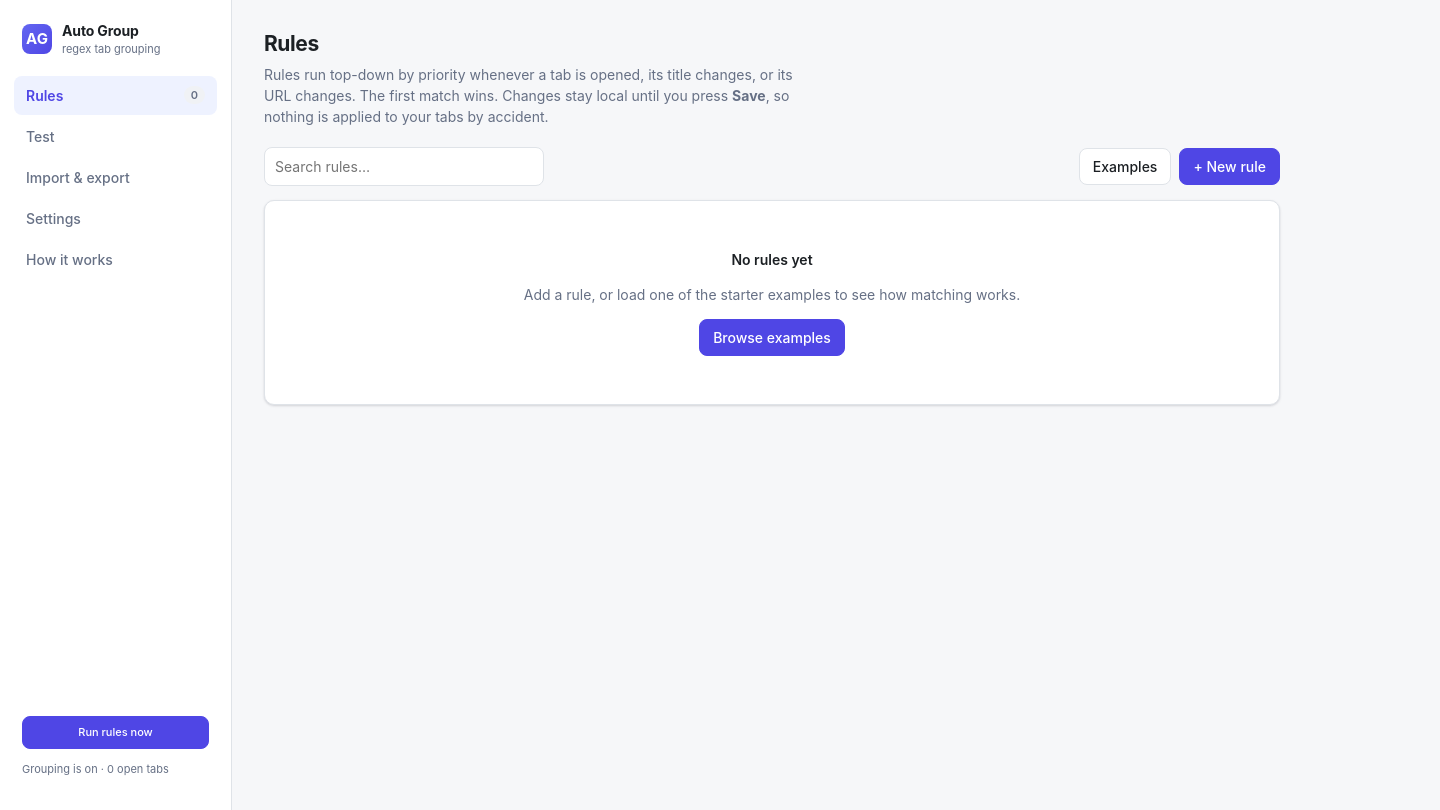
it: options App — save flow › shows Unsaved changes then Saved after pressing Save
Click the button "Browse examples" at (772, 337), box [699,318,845,356]
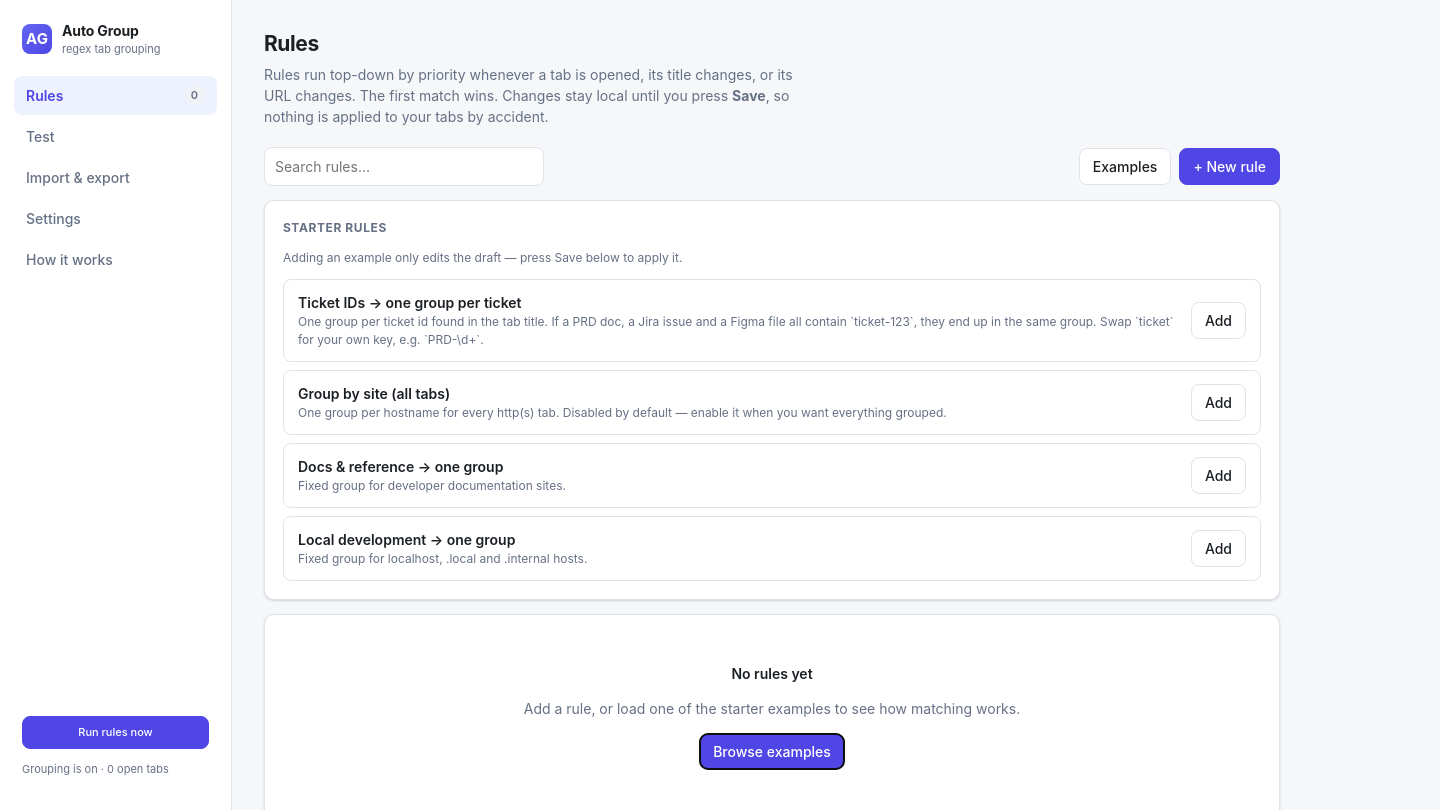
Click the button "Add" in the row of "Ticket IDs → one group per ticket" at (1218, 320), box [1191,302,1246,338]
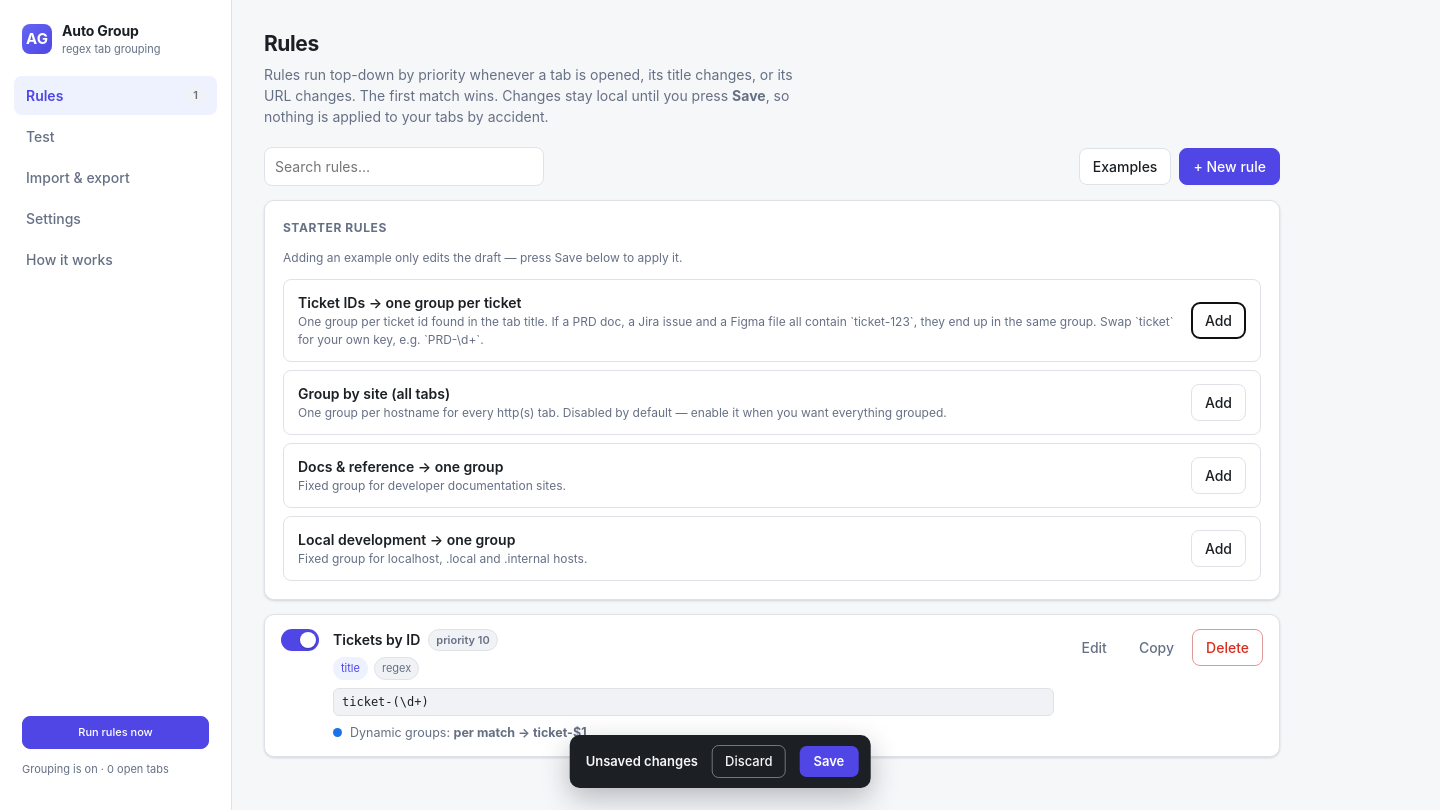
Result: the text "Unsaved changes" is shown at [586,752,698,771]
Click the button "Save" at (829, 761), box [800,746,858,777]
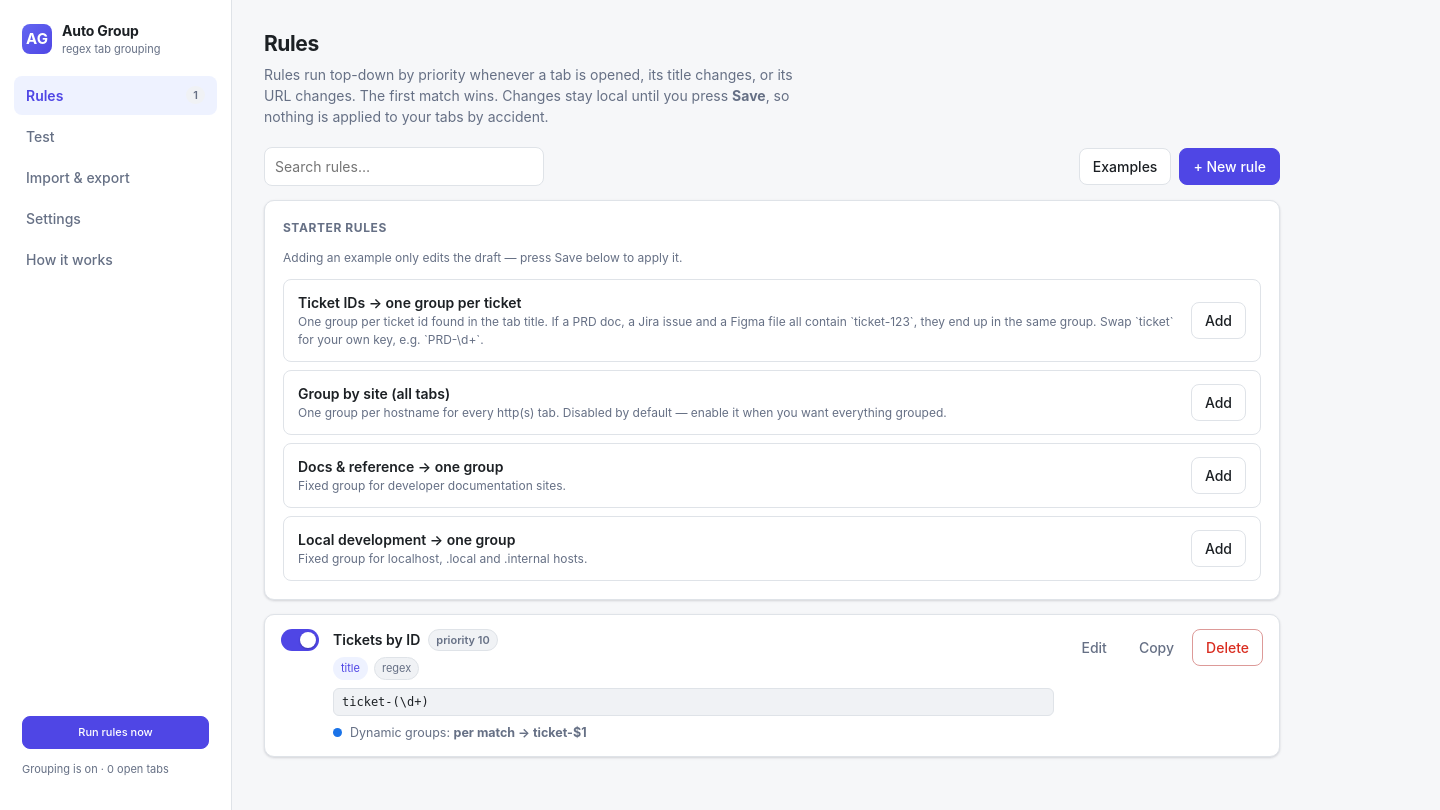
Result: the text "Unsaved changes" is gone
